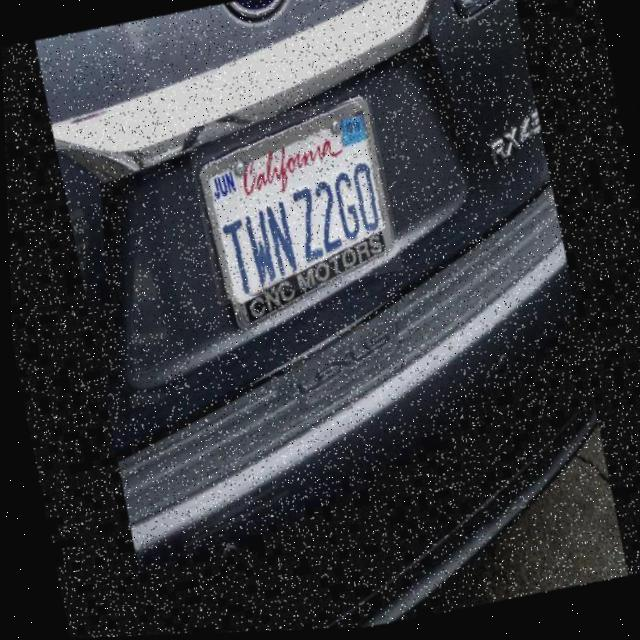LicensePlate: (183, 97, 402, 309)
